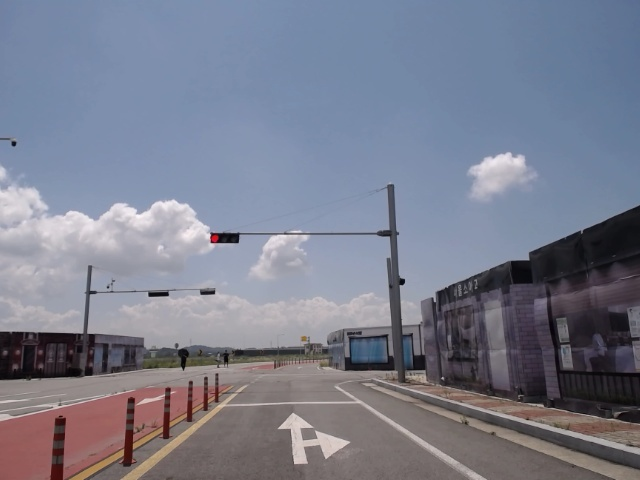red_3: (210, 233, 241, 245)
